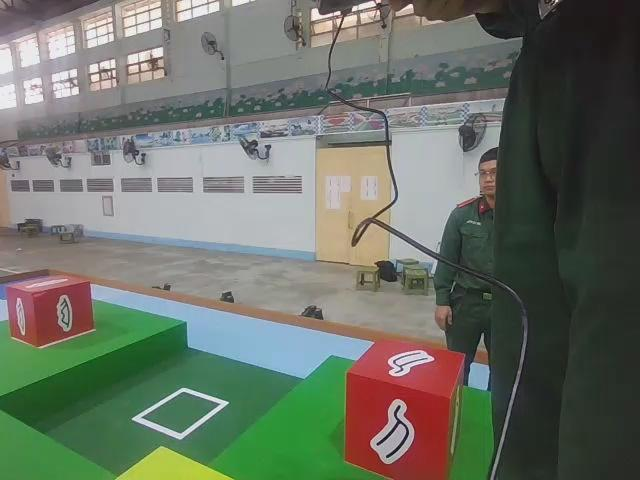R2 Real: (344, 337, 466, 480), (3, 277, 98, 346)
